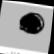correct: (15, 8, 47, 38)
